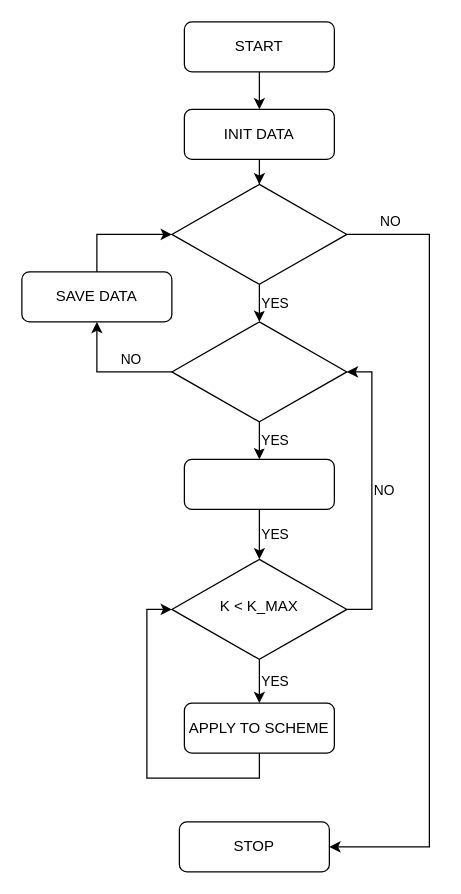
Some shapes in this 461 by 894 pixel diagram are drawn without their labels. The centre of each missing label's shape, as x and y in pixels:
"CALCULATE CONV & CORR" goes at (x=258, y=483).
"TIME < T_MAX" goes at (x=259, y=233).
"Z < Z_MAX" goes at (x=259, y=371).
